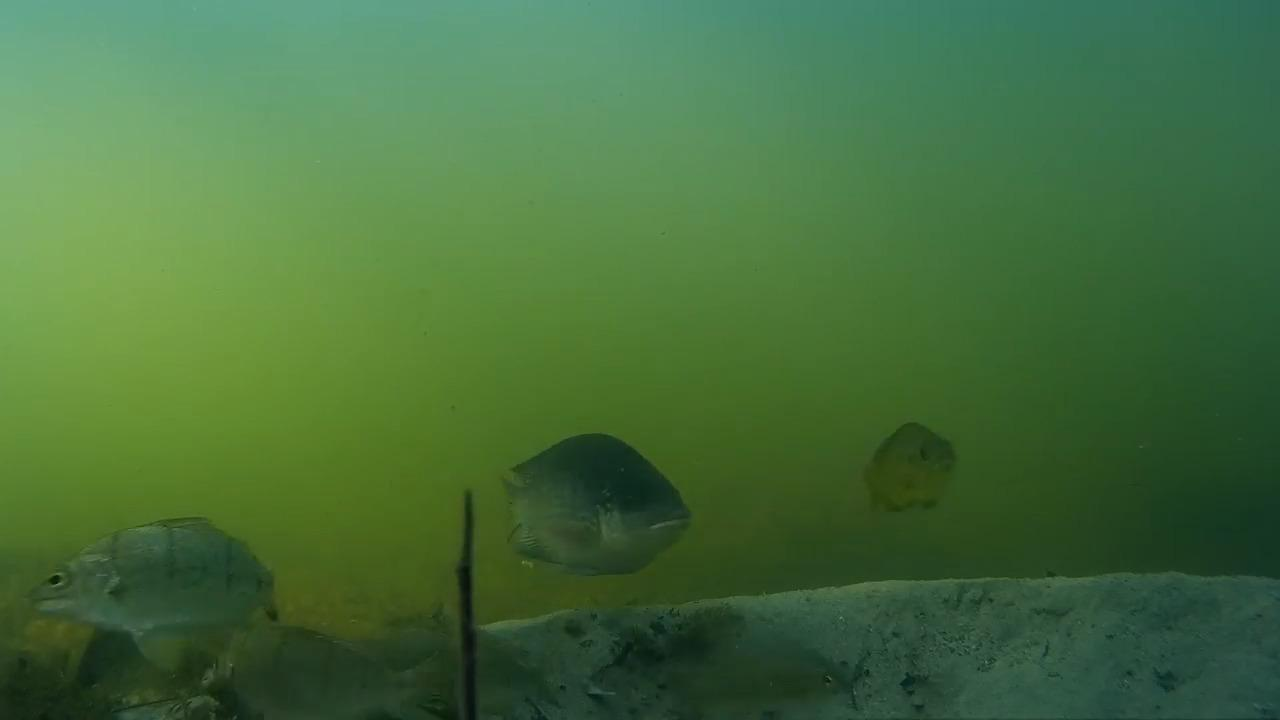Tilapia: (25, 512, 299, 660), (481, 428, 708, 587), (210, 604, 483, 710), (610, 618, 859, 708), (852, 416, 977, 527)
